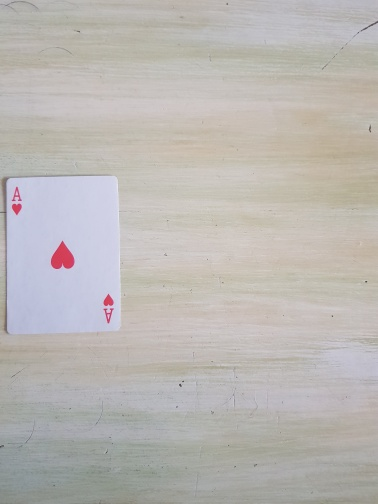ace: (5, 176, 122, 334)
